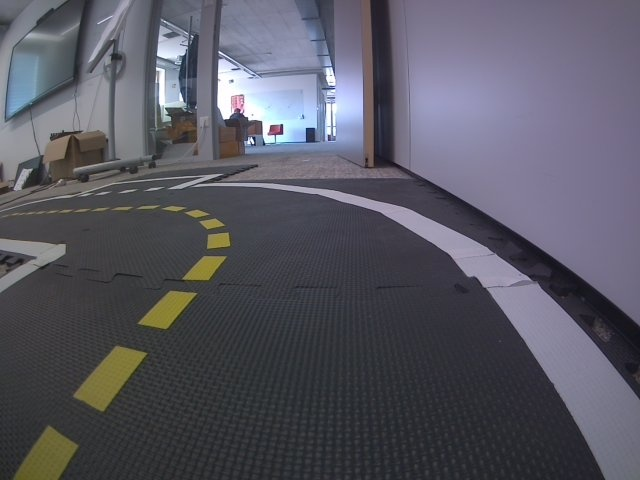freeSpot: (73, 174, 223, 199)
